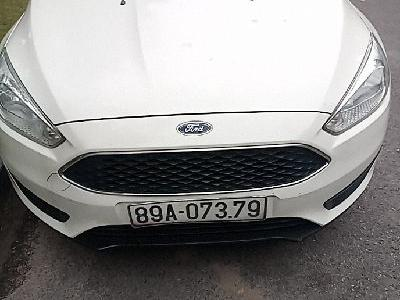car: (126, 196, 269, 229)
